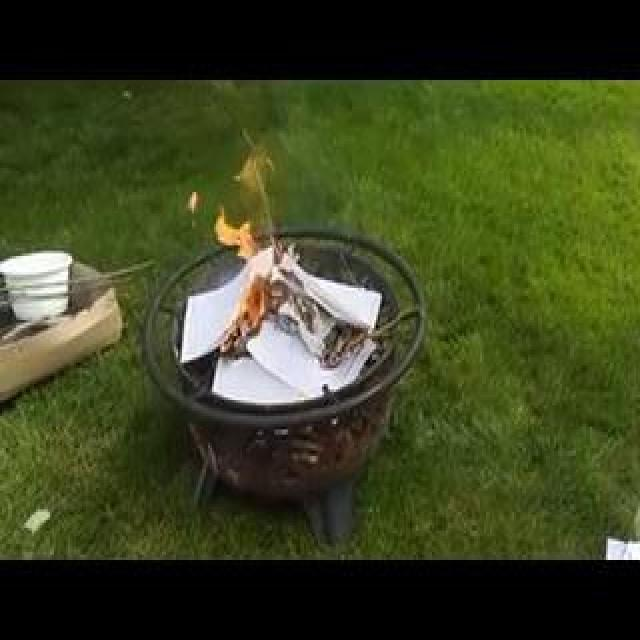Fire: (94, 214, 257, 248)
